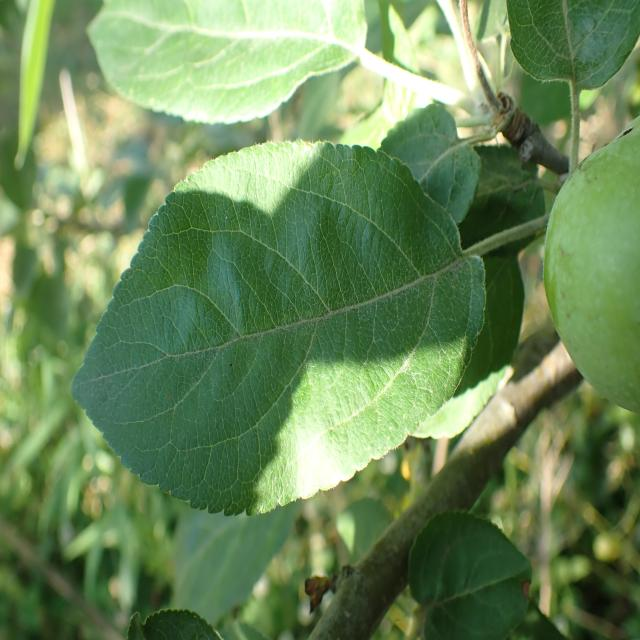healthy: (70, 138, 486, 517), (85, 0, 368, 125), (542, 126, 640, 413), (407, 508, 532, 640), (378, 102, 480, 226), (504, 0, 640, 91)
